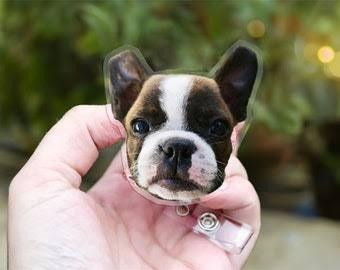puppy-dog: (102, 39, 265, 205)
